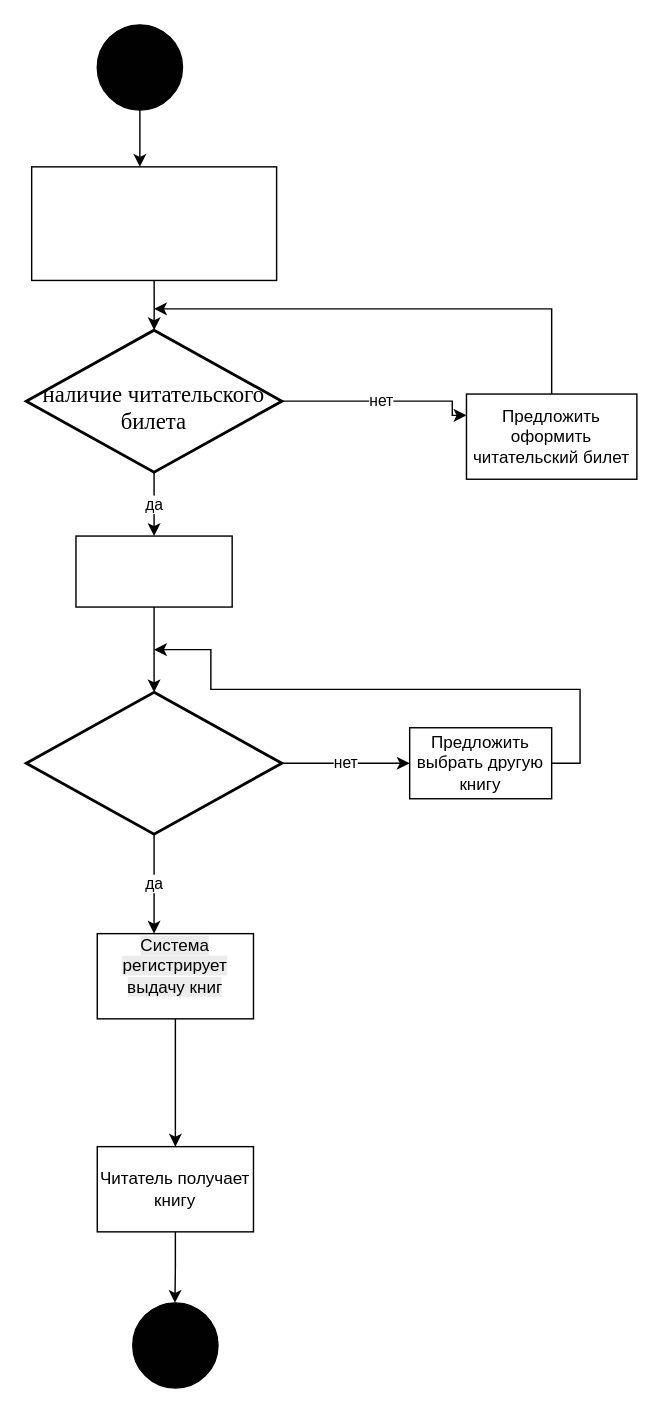
Some shapes in this 662 by 1413 pixel diagram are drawn without their labels. Each missing label, with the centre of its shape:
"Выбирает книгу из каталога" goes at point 153,571.
"Приходит в библиотеку" goes at point 153,222.
"проверка наличия" goes at point 153,762.
